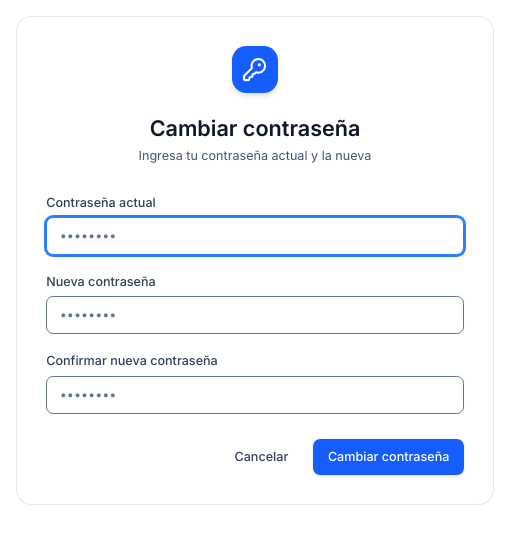
it: ChangePasswordPage › muestra error cuando contraseña actual es muy corta
The image size is (511, 545).
Type "corta" into the password field labelled "Contraseña actual" at (255, 236), box [46,217,464,255]
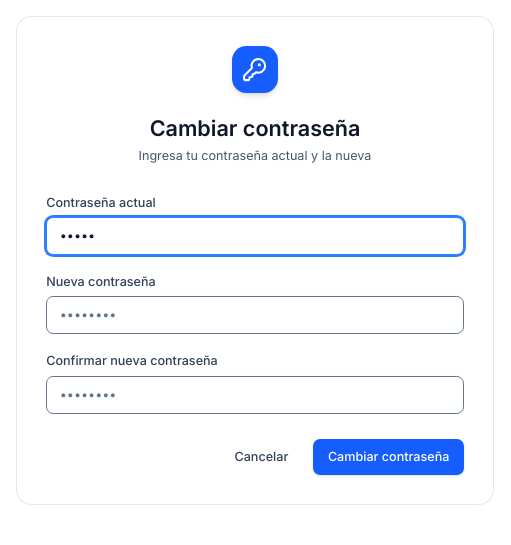
Type "NuevaPassword123" into the password field labelled "Nueva contraseña" at (255, 315), box [46,296,464,334]
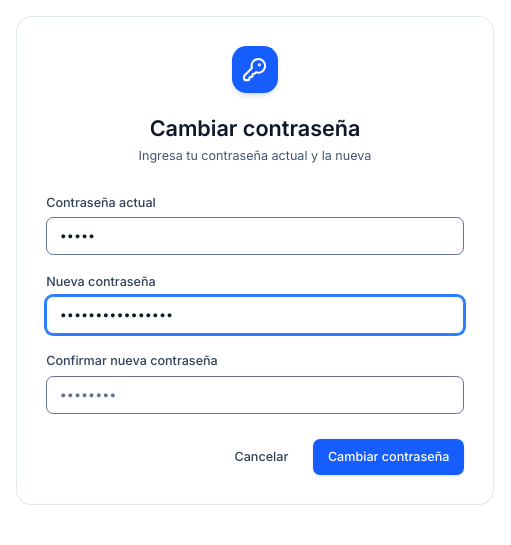
Type "NuevaPassword123" into the password field labelled "Confirmar nueva contraseña" at (255, 395), box [46,376,464,414]
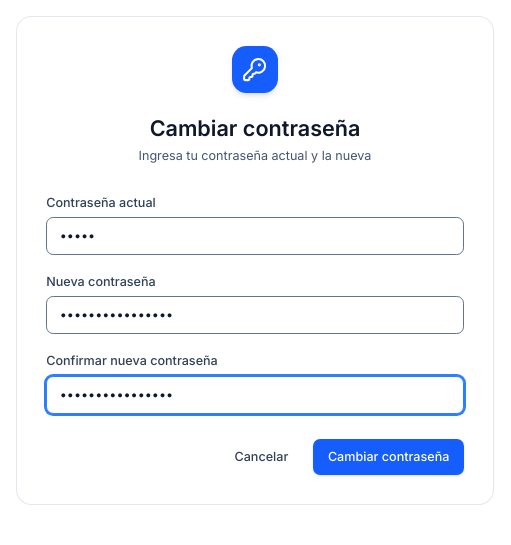
Click the button "Cambiar contraseña" at (389, 457), box [314,439,464,475]
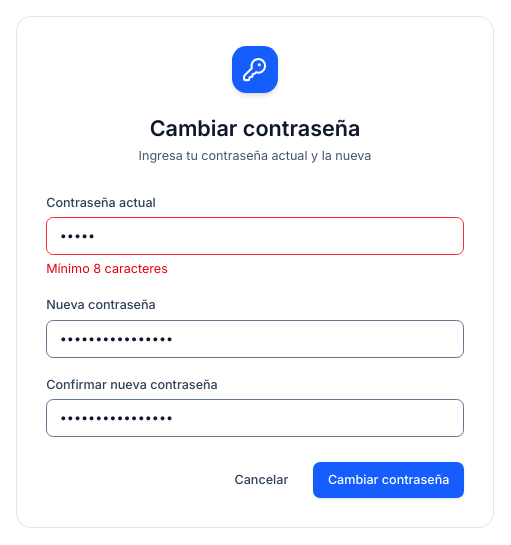
Now the text "Mínimo 8 caracteres" is shown, box [46,261,168,276]
